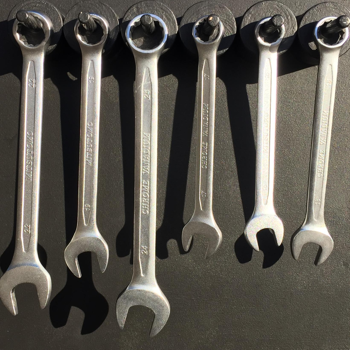bottom: (111, 281, 172, 338), (0, 260, 55, 319), (62, 233, 111, 278), (178, 215, 225, 261), (289, 221, 335, 266), (243, 214, 286, 252)
top: (124, 12, 168, 57), (11, 10, 57, 53), (71, 11, 110, 49), (311, 12, 349, 51), (189, 13, 226, 49), (252, 14, 287, 49)
